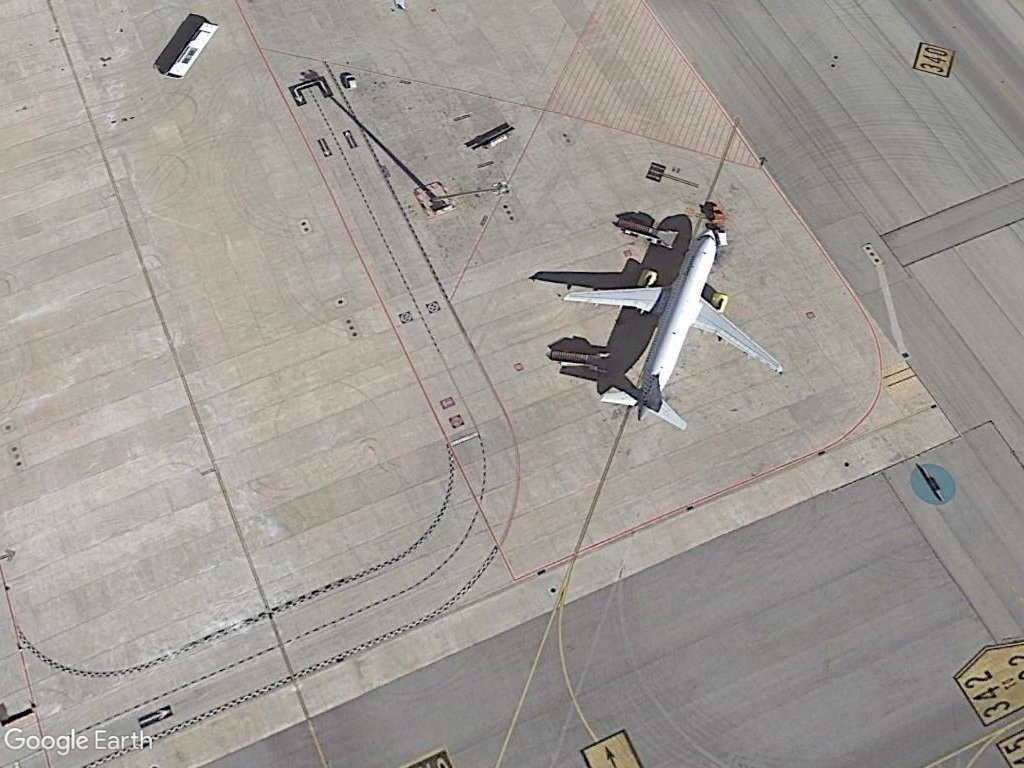airliner: (554, 196, 795, 439)
stairtruck: (610, 211, 683, 251)
